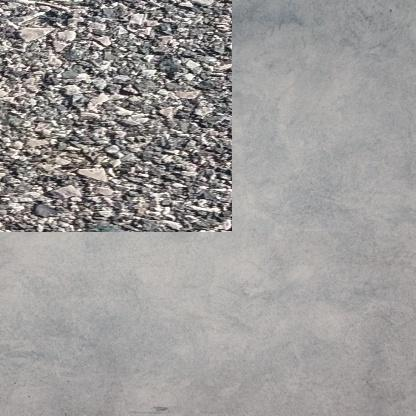Cracks: (0, 0, 214, 65)
